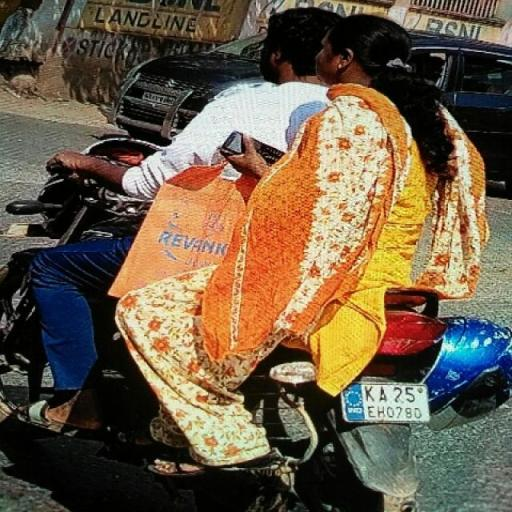bike: (0, 6, 512, 512)
numberplate: (342, 380, 432, 422)
withouthelmet: (319, 17, 402, 77), (262, 8, 320, 88)
